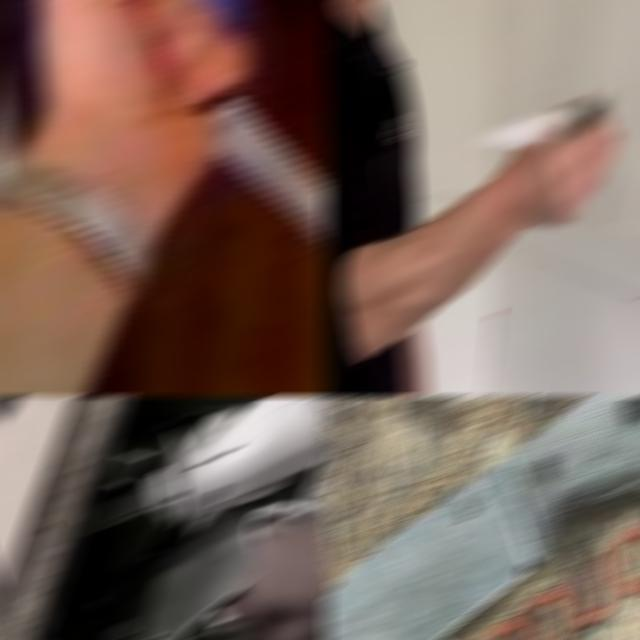Knife: (322, 397, 640, 639)
Knife_Handle: (32, 1, 330, 297), (477, 91, 624, 226)
